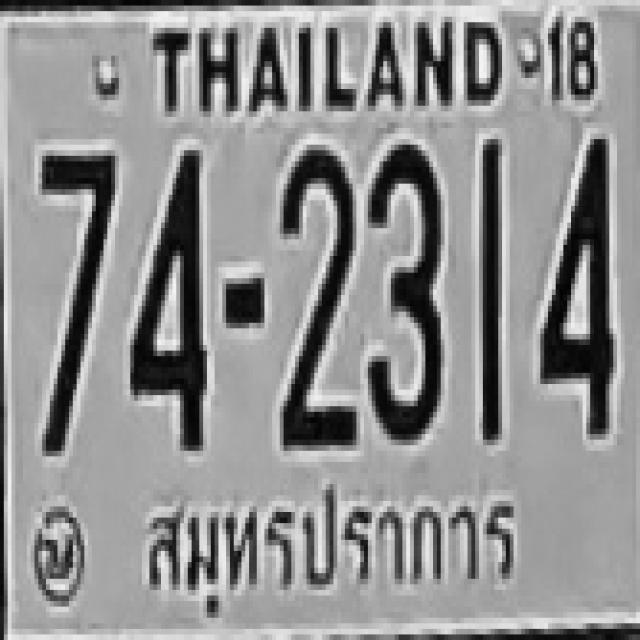1: (475, 139, 502, 434), (479, 136, 502, 415)
2: (278, 142, 354, 437), (280, 142, 352, 415)
3: (364, 136, 441, 437)
4: (127, 145, 203, 445), (537, 134, 613, 434)
7: (38, 147, 115, 448), (38, 150, 115, 412), (38, 147, 115, 348)
SamutPrakan: (129, 474, 527, 598)
